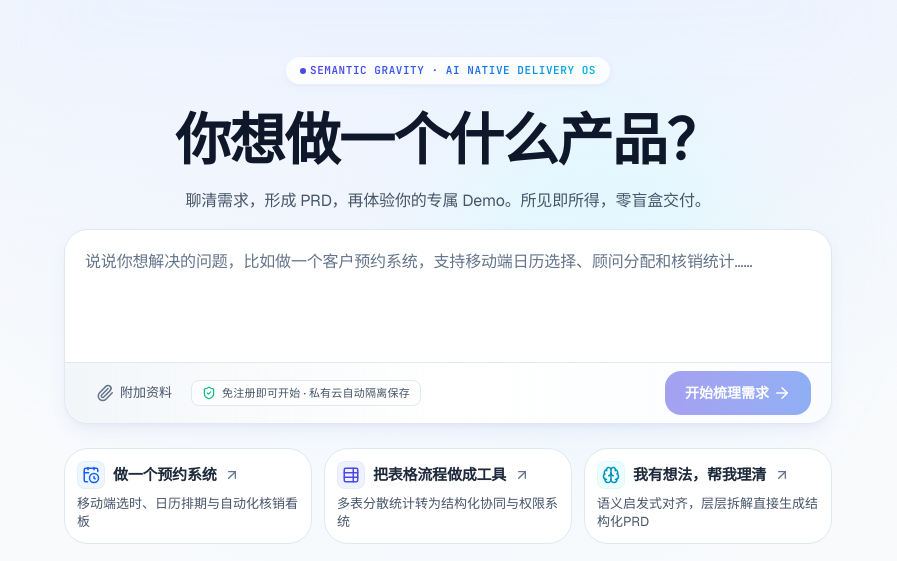
Test case: HomeHero（首页 P01 照原型） › 示例 chip 点击填入全文：点「做一个预约系统」填入原型 fillPrompt 完整需求句
Click the button "做一个预约系统 移动端选时、日历排期与自动化核销看板" at [188, 496], box [64, 448, 312, 544]
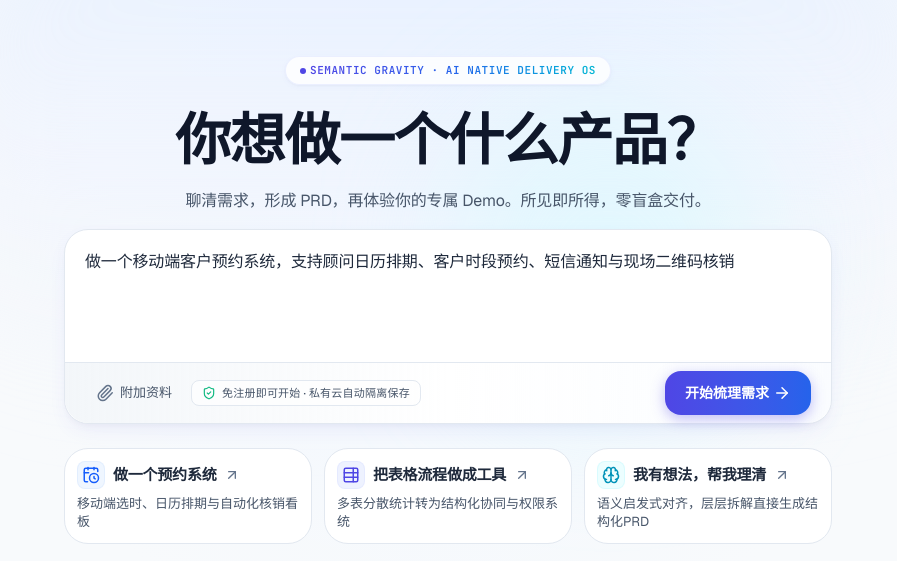
expect the text box with placeholder "说说你想解决的问题，比如做一个客户预约系统，支持移动端日历选择、顾问分配和核销统计……" holds "做一个移动端客户预约系统，支持顾问日历排期、客户时段预约、短信通知与现场二维码核销": met, box [85, 250, 811, 346]
